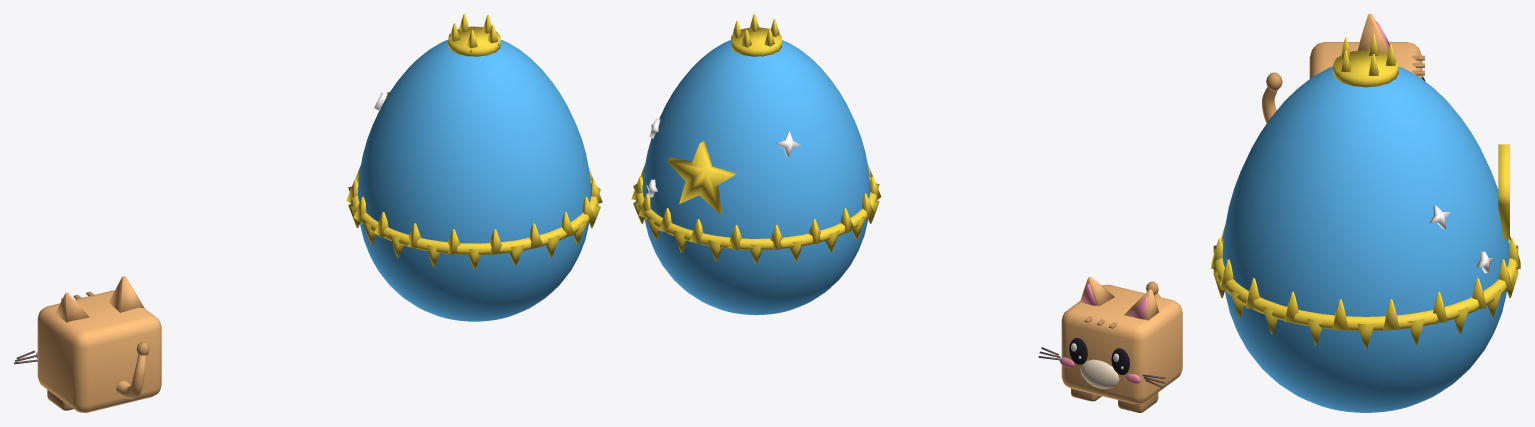
Rendered from pack_test.fbx.
3 views of the same model, side by side, from view 1: azimuth 30°, elevation 25°; view 2: azimuth 150°, elevation 25°; view 3: azimuth 270°, elevation 25° (orthographic). The views are drawn at different scales.
Visible parts, largest first — view 1: egg_starter, pet_cat; view 2: egg_starter, pet_cat; view 3: egg_starter, pet_cat.
Part boxes in pixels (x1,y1,x2,y2): egg_starter: (346, 14, 602, 321); pet_cat: (14, 276, 161, 412); egg_starter: (631, 14, 881, 315); pet_cat: (1038, 277, 1182, 412); egg_starter: (1211, 34, 1520, 412); pet_cat: (1262, 14, 1425, 123).
Bounding box in the file's own units: 13.14 × 6.65 × 5.23.
2 materials, 2 textured.
